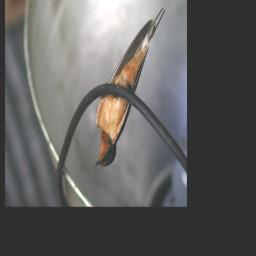Swallow: (92, 6, 169, 171)
